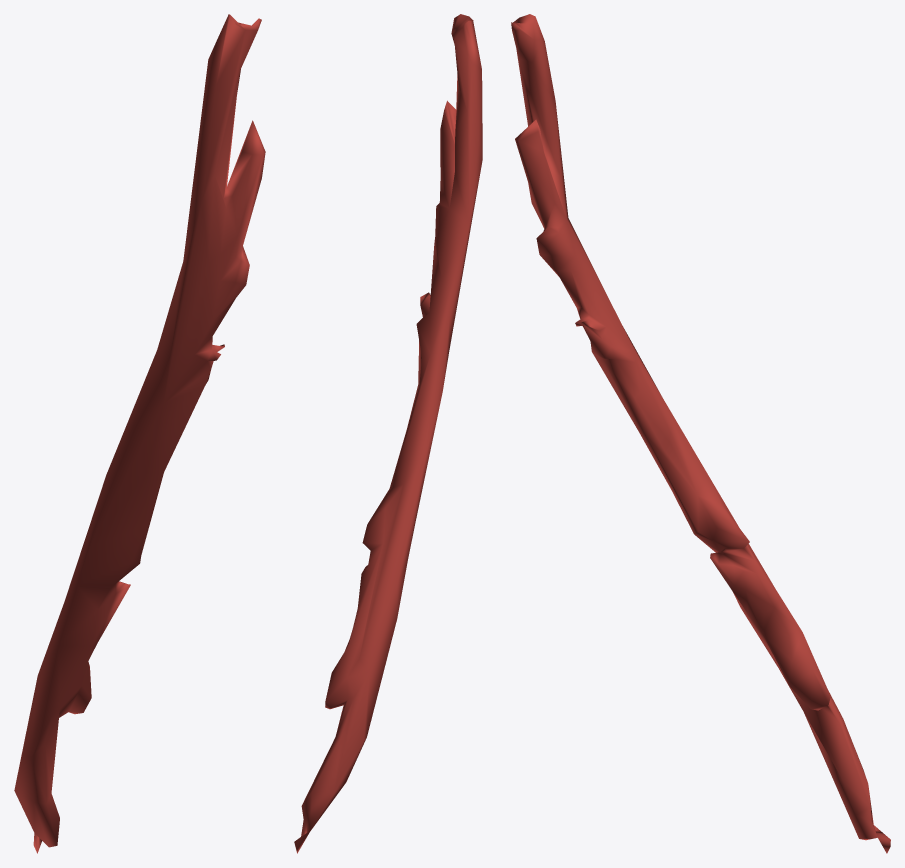
File: musculos-spinalis-colli-muscle-r.glb
3 views of the same model, side by side, from view 1: azimuth 30°, elevation 25°; view 2: azimuth 150°, elevation 25°; view 3: azimuth 270°, elevation 25° (orthographic). The views are drawn at different scales.
Parts seen in each view (by area): view 1: Spinalis colli muscle.r; view 2: Spinalis colli muscle.r; view 3: Spinalis colli muscle.r.
Part boxes in pixels (left/top/right/bottom): Spinalis colli muscle.r: left=14, top=14, right=265, bottom=853; Spinalis colli muscle.r: left=294, top=14, right=482, bottom=853; Spinalis colli muscle.r: left=511, top=14, right=890, bottom=853.
Bounding box in the file's own units: 0.00792 × 0.1058 × 0.0438.
